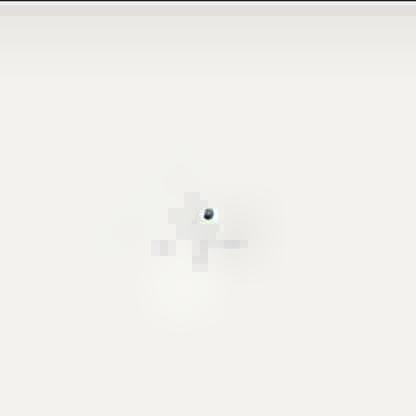golfball: (199, 203, 215, 219)
